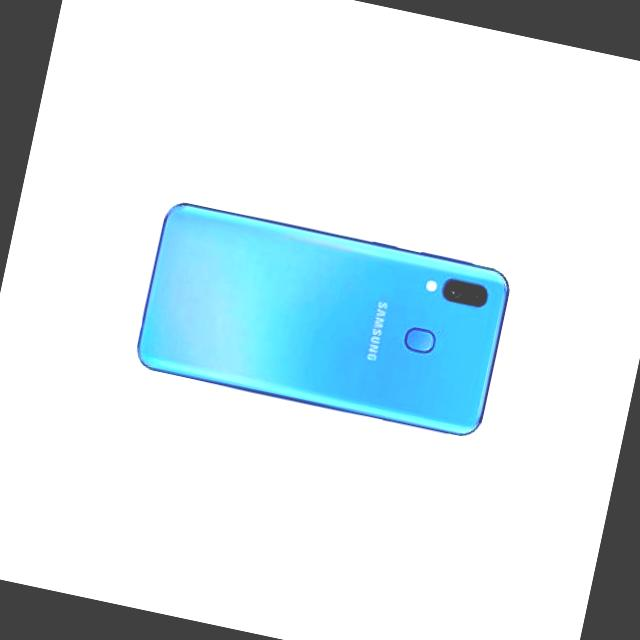lens_back: (461, 280, 488, 308), (437, 276, 464, 304)
phone: (124, 190, 525, 448)
